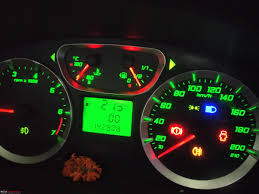Digital_Meter: (79, 98, 137, 137)
